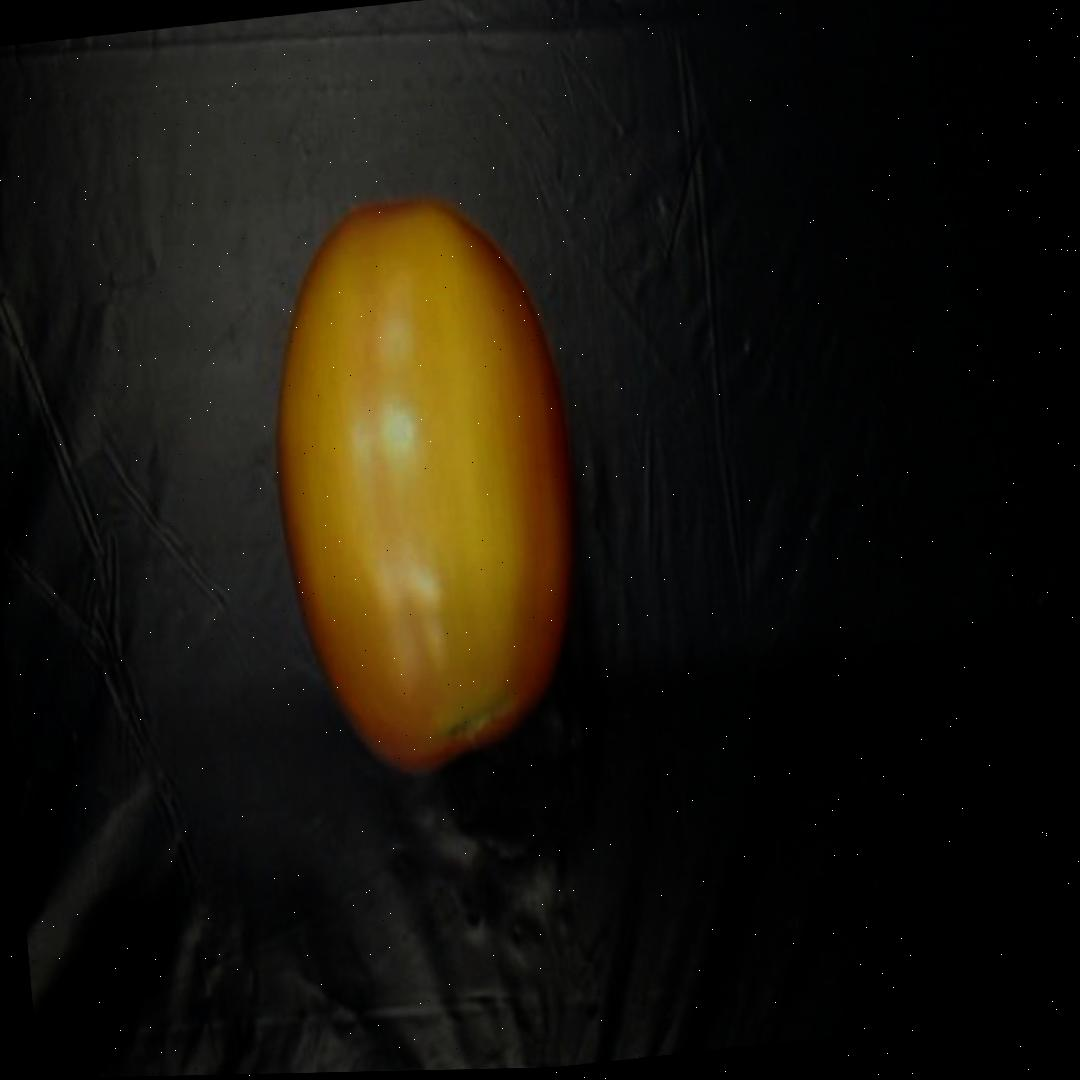setengah_matang: (245, 176, 600, 796)
